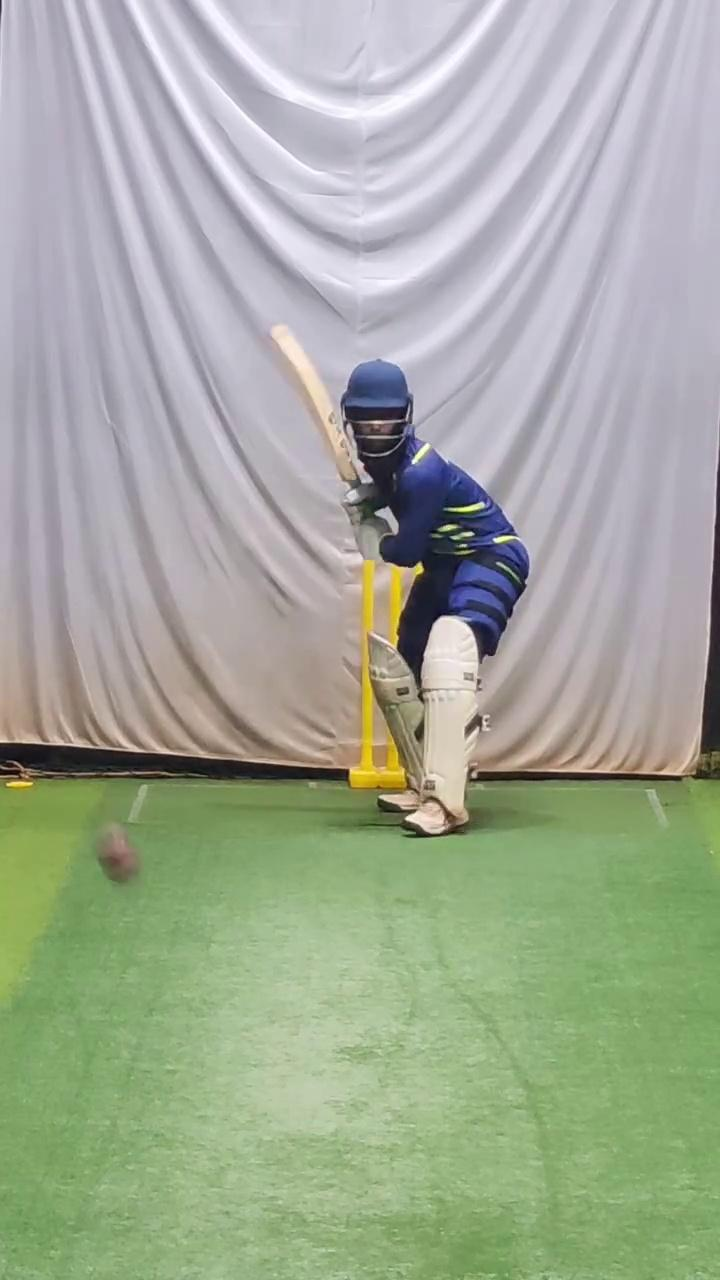bat: (262, 313, 361, 492)
